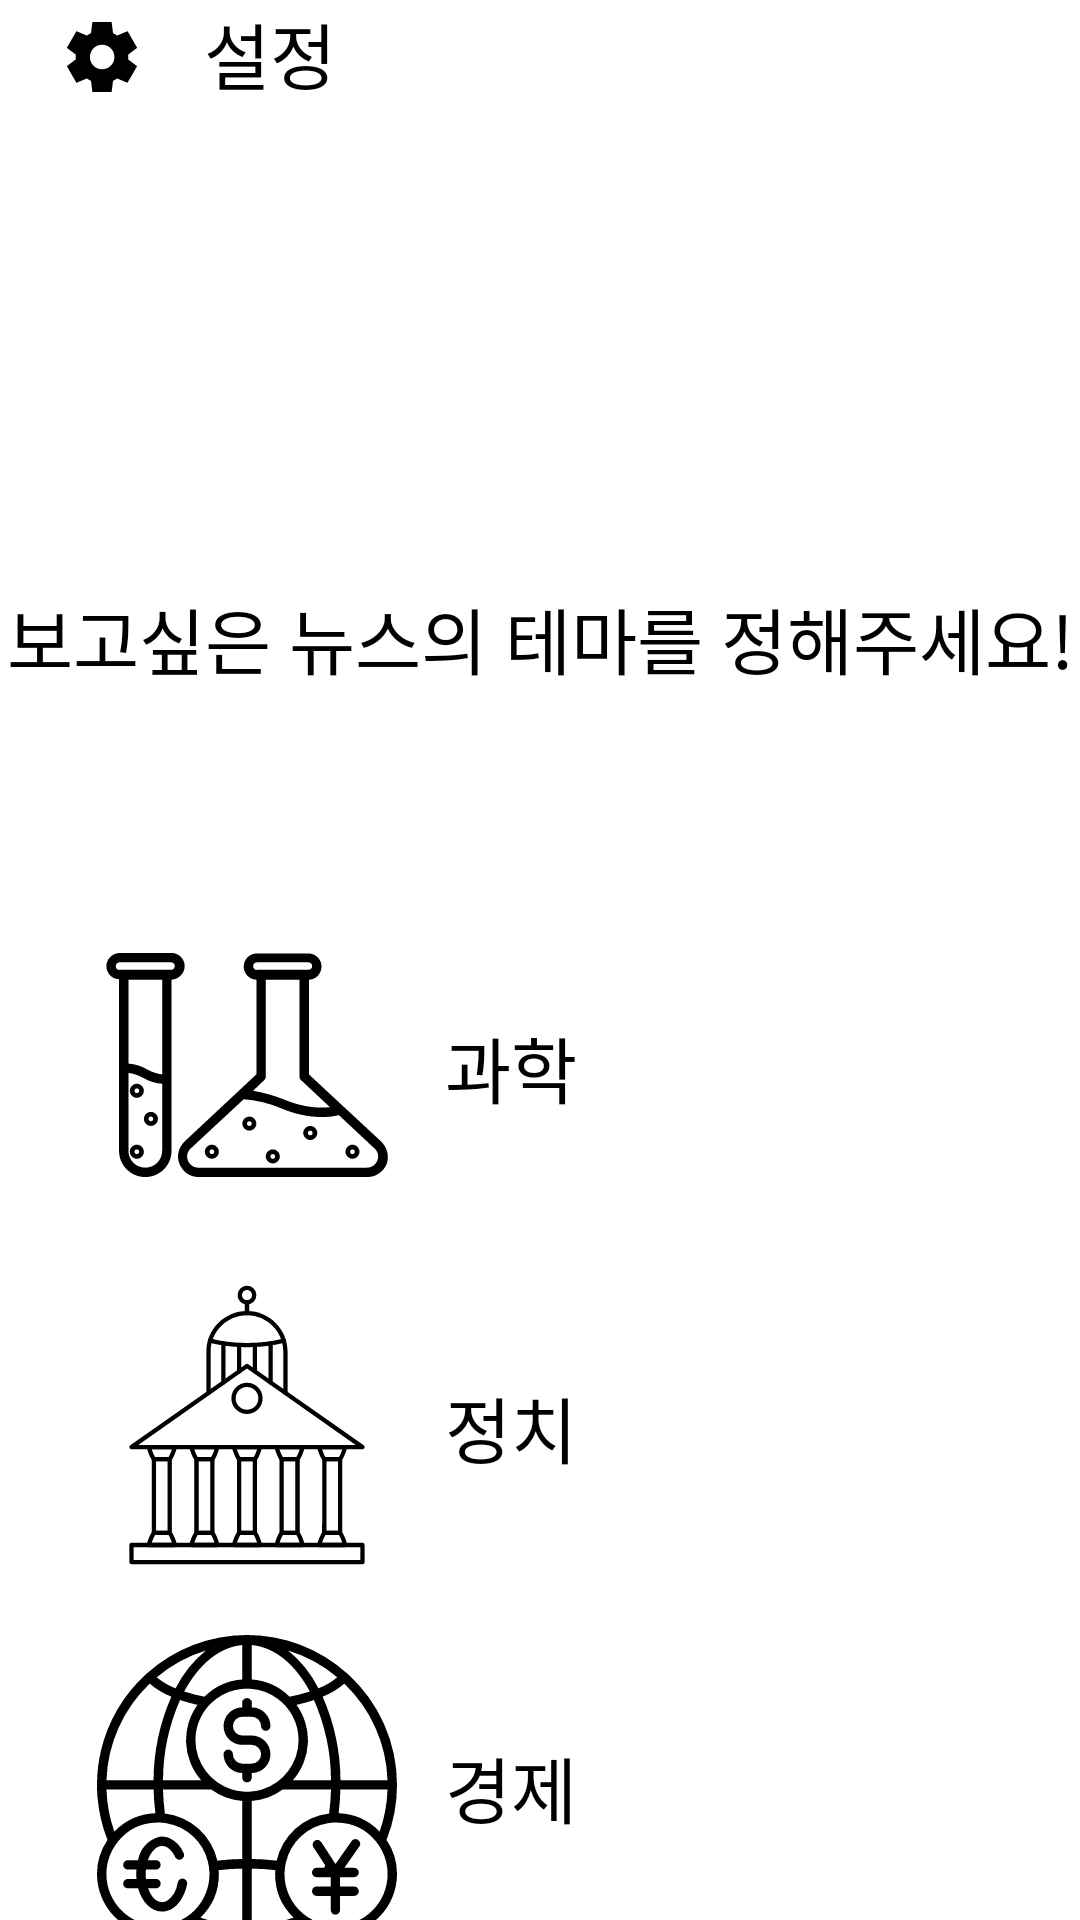

Where to tap for icons on this 1080*1920 app screen, as [x,y]:
setting: [102,57]
